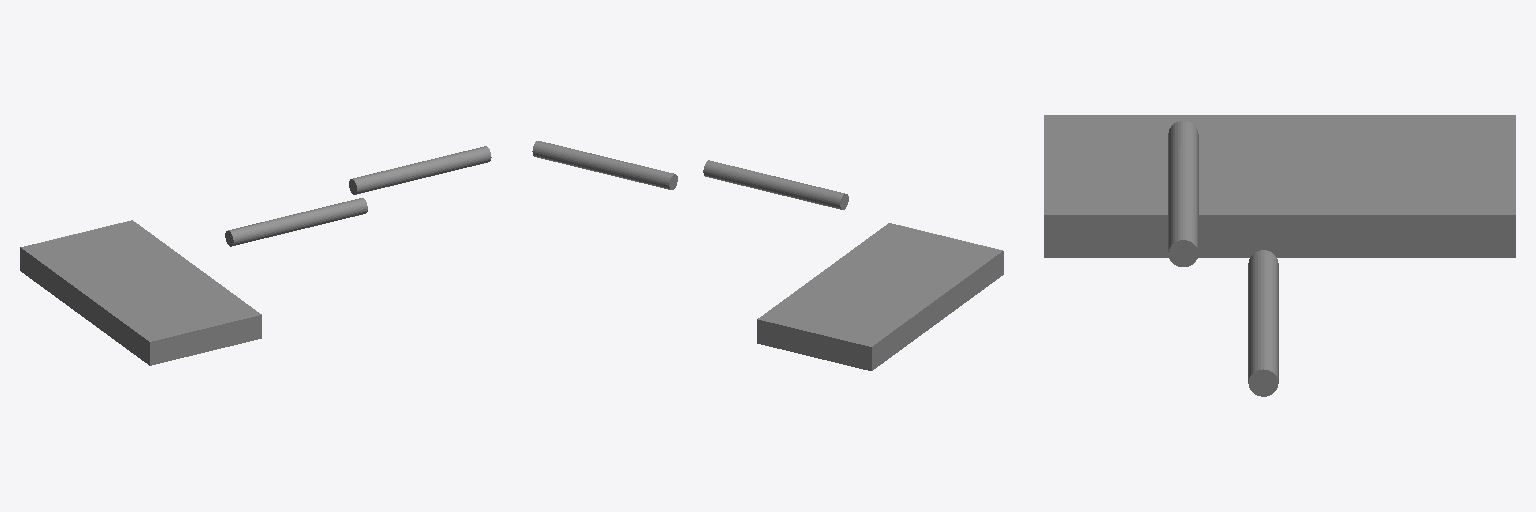
The robot description file, URDF, robot "A-2085-06":
<?xml version="1.0" ?>
<!-- =================================================================================== -->
<!-- |    This document was autogenerated by xacro from A-2085-06.xacro                | -->
<!-- |    EDITING THIS FILE BY HAND IS NOT RECOMMENDED                                 | -->
<!-- =================================================================================== -->
<robot name="A-2085-06" xmlns:xacro="http://www.ros.org/wiki/xacro">
  <!-- *************************** XACRO MACROS *************************** -->
  <!-- ************************* ROBOT DEFINITION ************************* -->
  <link name="world"/>
  <joint name="world_joint" type="fixed">
    <origin rpy="0 0 0" xyz="0 0 0"/>
    <parent link="world"/>
    <child link="base"/>
  </joint>
  <!-- just for visualization: base post -->
  <link name="base">
    <visual>
      <origin rpy="0 0 0" xyz="-.125 0 -.0254"/>
      <geometry>
        <box size="0.25 0.5 0.0508"/>
      </geometry>
      <material name="silver">
        <color rgba="0.6 0.6 0.6 1"/>
      </material>
    </visual>
    <collision>
      <origin rpy="0 0 0" xyz="-.125 0 -.0254"/>
      <geometry>
        <box size="0.25 0.5 0.0508"/>
      </geometry>
    </collision>
    <inertial>
      <origin rpy="0 0 0" xyz=".125 0 -.0254"/>
      <mass value="1.0"/>
      <inertia ixx="1.0" ixy="0.0" ixz="0.0" iyy="1.0" iyz="0.0" izz="1.0"/>
    </inertial>
  </link>
  <joint name="base_base" type="fixed">
    <parent link="base"/>
    <child link="HEBI/base/INPUT_INTERFACE"/>
    <origin rpy="0 0 0" xyz="0 0 0"/>
  </joint>
  <link name="HEBI/base/INPUT_INTERFACE">
    <visual>
      <origin rpy="0 0 0" xyz="0 0 0"/>
      <geometry>
        <mesh filename="package://hebi_description/meshes/X8.stl" scale="0.001 0.001 0.001"/>
      </geometry>
      <material name="red">
        <color rgba=".82 0.06 0.06 1"/>
      </material>
    </visual>
    <collision>
      <origin rpy="0 0 0" xyz="0 0 0"/>
      <geometry>
        <mesh filename="package://hebi_description/meshes/X8.stl" scale="0.001 0.001 0.001"/>
      </geometry>
    </collision>
    <inertial>
      <origin rpy="0 0 0" xyz="-0.0145 -0.0031 0.0242"/>
      <mass value="0.480"/>
      <inertia ixx="0.000246" ixy="0.0000444" ixz="0.0000266" iyy="0.000380" iyz="0.00000422" izz="0.000463"/>
    </inertial>
  </link>
  <joint name="HEBI/base/X8_9" type="continuous">
    <parent link="HEBI/base/INPUT_INTERFACE"/>
    <child link="shoulder_bracket/INPUT_INTERFACE"/>
    <origin rpy="0 0 0" xyz="0 0 0.045"/>
    <axis xyz="0 0 1"/>
    <limit effort="20" velocity="30"/>
    <dynamics damping="0.5" friction="0.5"/>
  </joint>
  <transmission name="HEBI/base/transmission">
    <type>transmission_interface/SimpleTransmission</type>
    <joint name="HEBI/base">
      <hardwareInterface>hardware_interface/EffortJointInterface</hardwareInterface>
    </joint>
    <actuator name="HEBI/base/actuator">
      <hardwareInterface>hardware_interface/EffortJointInterface</hardwareInterface>
      <mechanicalReduction>1</mechanicalReduction>
    </actuator>
  </transmission>
  <gazebo reference="HEBI/base/INPUT_INTERFACE">
    <selfCollide>true</selfCollide>
    <gravity>true</gravity>
    <sensor name="HEBI/base/imu_sensor" type="imu">
      <always_on>true</always_on>
      <update_rate>100</update_rate>
      <visualize>true</visualize>
      <plugin filename="libgazebo_imu_sensor.so" name="imu_plugin">
        <topicName>/hebi_gazebo_plugin/imu/HEBI/base</topicName>
        <bodyName>HEBI/base/imu_link</bodyName>
        <updateRateHZ>10.0</updateRateHZ>
        <gaussianNoise>0.0</gaussianNoise>
        <xyzOffset>0.025 0 0.003</xyzOffset>
        <rpyOffset>0 0 0</rpyOffset>
        <frameName>HEBI/base/imu_link</frameName>
      </plugin>
      <pose>0 0 0 0 0 0</pose>
    </sensor>
  </gazebo>
  <link name="shoulder_bracket/INPUT_INTERFACE">
    <visual>
      <origin rpy="1.57079632679 0 1.57079632679" xyz="0 0 0.005"/>
      <geometry>
        <mesh filename="package://hebi_description/meshes/PM-2149-01.stl" scale="0.001 0.001 0.001"/>
      </geometry>
      <material name="black">
        <color rgba="0 0 0 1"/>
      </material>
    </visual>
    <visual>
      <origin rpy="1.57079632679 0 0" xyz="0 -.03 .04"/>
      <geometry>
        <mesh filename="package://hebi_description/meshes/PM-2150-01R.stl" scale="0.001 0.001 0.001"/>
      </geometry>
      <material name="black">
        <color rgba="0 0 0 1"/>
      </material>
    </visual>
    <collision>
      <origin rpy="1.57079632679 0 1.57079632679" xyz="0 0 0.005"/>
      <geometry>
        <mesh filename="package://hebi_description/meshes/PM-2149-01.stl" scale="0.001 0.001 0.001"/>
      </geometry>
    </collision>
    <collision>
      <origin rpy="1.57079632679 0 0" xyz="0 -.03 .04"/>
      <geometry>
        <mesh filename="package://hebi_description/meshes/PM-2150-01R.stl" scale="0.001 0.001 0.001"/>
      </geometry>
    </collision>
    <!-- NOTE: inertia is just modelled as small sphere, and could be improved. -->
    <inertial>
      <origin rpy="0 0 0" xyz="0 -0.01875 .0275"/>
      <mass value="0.215"/>
      <inertia ixx="0.0003096" ixy="0.0" ixz="0.0" iyy="0.0003096" iyz="0.0" izz="0.0003096"/>
    </inertial>
  </link>
  <joint name="shoulder_bracket/OUTPUT_INTERFACE" type="fixed">
    <parent link="shoulder_bracket/INPUT_INTERFACE"/>
    <child link="HEBI/shoulder/INPUT_INTERFACE"/>
    <origin rpy="1.57079632679 0 0" xyz="0 -.0375 .055"/>
  </joint>
  <gazebo reference="shoulder_bracket/INPUT_INTERFACE">
    <selfCollide>true</selfCollide>
  </gazebo>
  <link name="HEBI/shoulder/INPUT_INTERFACE">
    <visual>
      <origin rpy="0 0 0" xyz="0 0 0"/>
      <geometry>
        <mesh filename="package://hebi_description/meshes/X8.stl" scale="0.001 0.001 0.001"/>
      </geometry>
      <material name="red">
        <color rgba=".82 0.06 0.06 1"/>
      </material>
    </visual>
    <collision>
      <origin rpy="0 0 0" xyz="0 0 0"/>
      <geometry>
        <mesh filename="package://hebi_description/meshes/X8.stl" scale="0.001 0.001 0.001"/>
      </geometry>
    </collision>
    <inertial>
      <origin rpy="0 0 0" xyz="-0.0145 -0.0031 0.0242"/>
      <mass value="0.500"/>
      <inertia ixx="0.000246" ixy="0.0000444" ixz="0.0000266" iyy="0.000380" iyz="0.00000422" izz="0.000463"/>
    </inertial>
  </link>
  <joint name="HEBI/shoulder/X8_16" type="continuous">
    <parent link="HEBI/shoulder/INPUT_INTERFACE"/>
    <child link="shoulder_elbow/INPUT_INTERFACE"/>
    <origin rpy="0 0 0" xyz="0 0 0.045"/>
    <axis xyz="0 0 1"/>
    <limit effort="38" velocity="15"/>
    <dynamics damping="0.5" friction="0.5"/>
  </joint>
  <transmission name="HEBI/shoulder/transmission">
    <type>transmission_interface/SimpleTransmission</type>
    <joint name="HEBI/shoulder">
      <hardwareInterface>hardware_interface/EffortJointInterface</hardwareInterface>
    </joint>
    <actuator name="HEBI/shoulder/actuator">
      <hardwareInterface>hardware_interface/EffortJointInterface</hardwareInterface>
      <mechanicalReduction>1</mechanicalReduction>
    </actuator>
  </transmission>
  <gazebo reference="HEBI/shoulder/INPUT_INTERFACE">
    <selfCollide>true</selfCollide>
    <gravity>true</gravity>
    <sensor name="HEBI/shoulder/imu_sensor" type="imu">
      <always_on>true</always_on>
      <update_rate>100</update_rate>
      <visualize>true</visualize>
      <plugin filename="libgazebo_imu_sensor.so" name="imu_plugin">
        <topicName>/hebi_gazebo_plugin/imu/HEBI/shoulder</topicName>
        <bodyName>HEBI/shoulder/imu_link</bodyName>
        <updateRateHZ>10.0</updateRateHZ>
        <gaussianNoise>0.0</gaussianNoise>
        <xyzOffset>0.025 0 0.003</xyzOffset>
        <rpyOffset>0 0 0</rpyOffset>
        <frameName>HEBI/shoulder/imu_link</frameName>
      </plugin>
      <pose>0 0 0 0 0 0</pose>
    </sensor>
  </gazebo>
  <link name="shoulder_elbow/INPUT_INTERFACE">
    <visual>
      <origin rpy="0 0 0" xyz="0 0 0"/>
      <geometry>
        <mesh filename="package://hebi_description/meshes/A-2038-02.stl"/>
      </geometry>
      <material name="black">
        <color rgba="0 0 0 1"/>
      </material>
    </visual>
    <visual>
      <origin rpy="0 1.57075 0" xyz="0.1625 0 0.02"/>
      <geometry>
        <cylinder length="0.2996" radius=".016"/>
      </geometry>
      <material name="silver">
        <color rgba="0.6 0.6 0.6 1"/>
      </material>
    </visual>
    <visual>
      <origin rpy="-3.14159265359 0 0" xyz="0.325 -2.44929359829e-18 0.0"/>
      <geometry>
        <mesh filename="package://hebi_description/meshes/A-2039-02.stl"/>
      </geometry>
      <material name="black">
        <color rgba="0 0 0 1"/>
      </material>
    </visual>
    <collision>
      <origin rpy="0 0 0" xyz="0 0 0"/>
      <geometry>
        <mesh filename="package://hebi_description/meshes/A-2038-02.stl"/>
      </geometry>
    </collision>
    <collision>
      <origin rpy="0 1.57075 0" xyz="0.1625 0 0.02"/>
      <geometry>
        <cylinder length="0.2996" radius=".016"/>
      </geometry>
    </collision>
    <collision>
      <origin rpy="-3.14159265359 0 0" xyz="0.325 -2.44929359829e-18 0.0"/>
      <geometry>
        <mesh filename="package://hebi_description/meshes/A-2039-02.stl"/>
      </geometry>
    </collision>
    <!-- Approximate inertia as thin rod about x axis -->
    <inertial>
      <origin rpy="0 0 0" xyz="0.1625 0 0.02"/>
      <mass value="0.402"/>
      <inertia ixx="0.0" ixy="0.0" ixz="0.0" iyy="0.0035384375" iyz="0.0" izz="0.0035384375"/>
    </inertial>
  </link>
  <joint name="shoulder_elbow/OUTPUT_JOINT" type="fixed">
    <parent link="shoulder_elbow/INPUT_INTERFACE"/>
    <child link="HEBI/elbow/INPUT_INTERFACE"/>
    <origin rpy="3.14159265359 0 0" xyz="0.325 -2.44929359829e-18 0.0"/>
  </joint>
  <gazebo reference="shoulder_elbow/INPUT_INTERFACE">
    <selfCollide>true</selfCollide>
  </gazebo>
  <link name="HEBI/elbow/INPUT_INTERFACE">
    <visual>
      <origin rpy="0 0 0" xyz="0 0 0"/>
      <geometry>
        <mesh filename="package://hebi_description/meshes/X8.stl" scale="0.001 0.001 0.001"/>
      </geometry>
      <material name="red">
        <color rgba=".82 0.06 0.06 1"/>
      </material>
    </visual>
    <collision>
      <origin rpy="0 0 0" xyz="0 0 0"/>
      <geometry>
        <mesh filename="package://hebi_description/meshes/X8.stl" scale="0.001 0.001 0.001"/>
      </geometry>
    </collision>
    <inertial>
      <origin rpy="0 0 0" xyz="-0.0145 -0.0031 0.0242"/>
      <mass value="0.480"/>
      <inertia ixx="0.000246" ixy="0.0000444" ixz="0.0000266" iyy="0.000380" iyz="0.00000422" izz="0.000463"/>
    </inertial>
  </link>
  <joint name="HEBI/elbow/X8_9" type="continuous">
    <parent link="HEBI/elbow/INPUT_INTERFACE"/>
    <child link="elbow_wrist1/INPUT_INTERFACE"/>
    <origin rpy="0 0 0" xyz="0 0 0.045"/>
    <axis xyz="0 0 1"/>
    <limit effort="20" velocity="30"/>
    <dynamics damping="0.5" friction="0.5"/>
  </joint>
  <transmission name="HEBI/elbow/transmission">
    <type>transmission_interface/SimpleTransmission</type>
    <joint name="HEBI/elbow">
      <hardwareInterface>hardware_interface/EffortJointInterface</hardwareInterface>
    </joint>
    <actuator name="HEBI/elbow/actuator">
      <hardwareInterface>hardware_interface/EffortJointInterface</hardwareInterface>
      <mechanicalReduction>1</mechanicalReduction>
    </actuator>
  </transmission>
  <gazebo reference="HEBI/elbow/INPUT_INTERFACE">
    <selfCollide>true</selfCollide>
    <gravity>true</gravity>
    <sensor name="HEBI/elbow/imu_sensor" type="imu">
      <always_on>true</always_on>
      <update_rate>100</update_rate>
      <visualize>true</visualize>
      <plugin filename="libgazebo_imu_sensor.so" name="imu_plugin">
        <topicName>/hebi_gazebo_plugin/imu/HEBI/elbow</topicName>
        <bodyName>HEBI/elbow/imu_link</bodyName>
        <updateRateHZ>10.0</updateRateHZ>
        <gaussianNoise>0.0</gaussianNoise>
        <xyzOffset>0.025 0 0.003</xyzOffset>
        <rpyOffset>0 0 0</rpyOffset>
        <frameName>HEBI/elbow/imu_link</frameName>
      </plugin>
      <pose>0 0 0 0 0 0</pose>
    </sensor>
  </gazebo>
  <link name="elbow_wrist1/INPUT_INTERFACE">
    <visual>
      <origin rpy="0 0 0" xyz="0 0 0"/>
      <geometry>
        <mesh filename="package://hebi_description/meshes/A-2038-02.stl"/>
      </geometry>
      <material name="black">
        <color rgba="0 0 0 1"/>
      </material>
    </visual>
    <visual>
      <origin rpy="0 1.57075 0" xyz="0.1625 0 0.02"/>
      <geometry>
        <cylinder length="0.2996" radius=".016"/>
      </geometry>
      <material name="silver">
        <color rgba="0.6 0.6 0.6 1"/>
      </material>
    </visual>
    <visual>
      <origin rpy="-3.14159265359 0 0" xyz="0.325 -2.44929359829e-18 0.0"/>
      <geometry>
        <mesh filename="package://hebi_description/meshes/A-2039-02.stl"/>
      </geometry>
      <material name="black">
        <color rgba="0 0 0 1"/>
      </material>
    </visual>
    <collision>
      <origin rpy="0 0 0" xyz="0 0 0"/>
      <geometry>
        <mesh filename="package://hebi_description/meshes/A-2038-02.stl"/>
      </geometry>
    </collision>
    <collision>
      <origin rpy="0 1.57075 0" xyz="0.1625 0 0.02"/>
      <geometry>
        <cylinder length="0.2996" radius=".016"/>
      </geometry>
    </collision>
    <collision>
      <origin rpy="-3.14159265359 0 0" xyz="0.325 -2.44929359829e-18 0.0"/>
      <geometry>
        <mesh filename="package://hebi_description/meshes/A-2039-02.stl"/>
      </geometry>
    </collision>
    <!-- Approximate inertia as thin rod about x axis -->
    <inertial>
      <origin rpy="0 0 0" xyz="0.1625 0 0.02"/>
      <mass value="0.402"/>
      <inertia ixx="0.0" ixy="0.0" ixz="0.0" iyy="0.0035384375" iyz="0.0" izz="0.0035384375"/>
    </inertial>
  </link>
  <joint name="elbow_wrist1/OUTPUT_JOINT" type="fixed">
    <parent link="elbow_wrist1/INPUT_INTERFACE"/>
    <child link="HEBI/wrist1/INPUT_INTERFACE"/>
    <origin rpy="3.14159265359 0 0" xyz="0.325 -2.44929359829e-18 0.0"/>
  </joint>
  <gazebo reference="elbow_wrist1/INPUT_INTERFACE">
    <selfCollide>true</selfCollide>
  </gazebo>
  <link name="HEBI/wrist1/INPUT_INTERFACE">
    <visual>
      <origin rpy="0 0 0" xyz="0 0 0"/>
      <geometry>
        <mesh filename="package://hebi_description/meshes/X5.stl" scale="0.001 0.001 0.001"/>
      </geometry>
      <material name="red">
        <color rgba=".82 0.06 0.06 1"/>
      </material>
    </visual>
    <collision>
      <origin rpy="0 0 0" xyz="0 0 0"/>
      <geometry>
        <mesh filename="package://hebi_description/meshes/X5.stl" scale="0.001 0.001 0.001"/>
      </geometry>
    </collision>
    <inertial>
      <origin rpy="0 0 0" xyz="-0.0142 -0.0031 0.0165"/>
      <mass value="0.315"/>
      <inertia ixx="0.00015" ixy="0.0000341" ixz="0.0000118" iyy="0.000255" iyz="0.00000229" izz="0.000350"/>
    </inertial>
  </link>
  <joint name="HEBI/wrist1/X5_1" type="continuous">
    <parent link="HEBI/wrist1/INPUT_INTERFACE"/>
    <child link="wrist1_wrist2/INPUT_INTERFACE"/>
    <origin rpy="0 0 0" xyz="0 0 0.031"/>
    <axis xyz="0 0 1"/>
    <limit effort="2.5" velocity="90"/>
    <dynamics damping="0.1" friction="0.1"/>
  </joint>
  <gazebo reference="HEBI/wrist1/INPUT_INTERFACE">
    <selfCollide>true</selfCollide>
    <gravity>true</gravity>
    <sensor name="HEBI/wrist1/imu_sensor" type="imu">
      <always_on>true</always_on>
      <update_rate>100</update_rate>
      <visualize>true</visualize>
      <plugin filename="libgazebo_imu_sensor.so" name="imu_plugin">
        <topicName>/hebi_gazebo_plugin/imu/HEBI/wrist1</topicName>
        <bodyName>HEBI/wrist1/imu_link</bodyName>
        <updateRateHZ>10.0</updateRateHZ>
        <gaussianNoise>0.0</gaussianNoise>
        <xyzOffset>0.025 0 0.003</xyzOffset>
        <rpyOffset>0 0 0</rpyOffset>
        <frameName>HEBI/wrist1/imu_link</frameName>
      </plugin>
      <pose>0 0 0 0 0 0</pose>
    </sensor>
  </gazebo>
  <link name="wrist1_wrist2/INPUT_INTERFACE">
    <visual>
      <origin rpy="1.57079632679 0 -1.57079632679" xyz="0 0 0"/>
      <geometry>
        <mesh filename="package://hebi_description/meshes/PM-2132-01R.stl" scale="0.001 0.001 0.001"/>
      </geometry>
      <material name="beige">
        <color rgba="0.96 0.945 0.871 1"/>
      </material>
    </visual>
    <collision>
      <origin rpy="1.57079632679 0 -1.57079632679" xyz="0 0 0"/>
      <geometry>
        <mesh filename="package://hebi_description/meshes/PM-2132-01R.stl" scale="0.001 0.001 0.001"/>
      </geometry>
    </collision>
    <!-- NOTE: inertia is just modelled as small sphere, and could be improved. -->
    <inertial>
      <origin rpy="0 0 0" xyz="0 -.0215 .02"/>
      <mass value="0.1"/>
      <inertia ixx="0.000144" ixy="0.0" ixz="0.0" iyy="0.000144" iyz="0.0" izz="0.000144"/>
    </inertial>
  </link>
  <joint name="wrist1_wrist2/OUTPUT_INTERFACE" type="fixed">
    <parent link="wrist1_wrist2/INPUT_INTERFACE"/>
    <child link="HEBI/wrist2/INPUT_INTERFACE"/>
    <origin rpy="1.57079632679 0 0" xyz="0 -.043 .04"/>
  </joint>
  <gazebo reference="wrist1_wrist2/INPUT_INTERFACE">
    <selfCollide>true</selfCollide>
  </gazebo>
  <link name="HEBI/wrist2/INPUT_INTERFACE">
    <visual>
      <origin rpy="0 0 0" xyz="0 0 0"/>
      <geometry>
        <mesh filename="package://hebi_description/meshes/X5.stl" scale="0.001 0.001 0.001"/>
      </geometry>
      <material name="red">
        <color rgba=".82 0.06 0.06 1"/>
      </material>
    </visual>
    <collision>
      <origin rpy="0 0 0" xyz="0 0 0"/>
      <geometry>
        <mesh filename="package://hebi_description/meshes/X5.stl" scale="0.001 0.001 0.001"/>
      </geometry>
    </collision>
    <inertial>
      <origin rpy="0 0 0" xyz="-0.0142 -0.0031 0.0165"/>
      <mass value="0.315"/>
      <inertia ixx="0.00015" ixy="0.0000341" ixz="0.0000118" iyy="0.000255" iyz="0.00000229" izz="0.000350"/>
    </inertial>
  </link>
  <joint name="HEBI/wrist2/X5_1" type="continuous">
    <parent link="HEBI/wrist2/INPUT_INTERFACE"/>
    <child link="wrist2_wrist3/INPUT_INTERFACE"/>
    <origin rpy="0 0 0" xyz="0 0 0.031"/>
    <axis xyz="0 0 1"/>
    <limit effort="2.5" velocity="90"/>
    <dynamics damping="0.1" friction="0.1"/>
  </joint>
  <gazebo reference="HEBI/wrist2/INPUT_INTERFACE">
    <selfCollide>true</selfCollide>
    <gravity>true</gravity>
    <sensor name="HEBI/wrist2/imu_sensor" type="imu">
      <always_on>true</always_on>
      <update_rate>100</update_rate>
      <visualize>true</visualize>
      <plugin filename="libgazebo_imu_sensor.so" name="imu_plugin">
        <topicName>/hebi_gazebo_plugin/imu/HEBI/wrist2</topicName>
        <bodyName>HEBI/wrist2/imu_link</bodyName>
        <updateRateHZ>10.0</updateRateHZ>
        <gaussianNoise>0.0</gaussianNoise>
        <xyzOffset>0.025 0 0.003</xyzOffset>
        <rpyOffset>0 0 0</rpyOffset>
        <frameName>HEBI/wrist2/imu_link</frameName>
      </plugin>
      <pose>0 0 0 0 0 0</pose>
    </sensor>
  </gazebo>
  <link name="wrist2_wrist3/INPUT_INTERFACE">
    <visual>
      <origin rpy="1.57079632679 0 -1.57079632679" xyz="0 0 0"/>
      <geometry>
        <mesh filename="package://hebi_description/meshes/PM-2132-01R.stl" scale="0.001 0.001 0.001"/>
      </geometry>
      <material name="beige">
        <color rgba="0.96 0.945 0.871 1"/>
      </material>
    </visual>
    <collision>
      <origin rpy="1.57079632679 0 -1.57079632679" xyz="0 0 0"/>
      <geometry>
        <mesh filename="package://hebi_description/meshes/PM-2132-01R.stl" scale="0.001 0.001 0.001"/>
      </geometry>
    </collision>
    <!-- NOTE: inertia is just modelled as small sphere, and could be improved. -->
    <inertial>
      <origin rpy="0 0 0" xyz="0 -.0215 .02"/>
      <mass value="0.1"/>
      <inertia ixx="0.000144" ixy="0.0" ixz="0.0" iyy="0.000144" iyz="0.0" izz="0.000144"/>
    </inertial>
  </link>
  <joint name="wrist2_wrist3/OUTPUT_INTERFACE" type="fixed">
    <parent link="wrist2_wrist3/INPUT_INTERFACE"/>
    <child link="HEBI/wrist3/INPUT_INTERFACE"/>
    <origin rpy="1.57079632679 0 0" xyz="0 -.043 .04"/>
  </joint>
  <gazebo reference="wrist2_wrist3/INPUT_INTERFACE">
    <selfCollide>true</selfCollide>
  </gazebo>
  <link name="HEBI/wrist3/INPUT_INTERFACE">
    <visual>
      <origin rpy="0 0 0" xyz="0 0 0"/>
      <geometry>
        <mesh filename="package://hebi_description/meshes/X5.stl" scale="0.001 0.001 0.001"/>
      </geometry>
      <material name="red">
        <color rgba=".82 0.06 0.06 1"/>
      </material>
    </visual>
    <collision>
      <origin rpy="0 0 0" xyz="0 0 0"/>
      <geometry>
        <mesh filename="package://hebi_description/meshes/X5.stl" scale="0.001 0.001 0.001"/>
      </geometry>
    </collision>
    <inertial>
      <origin rpy="0 0 0" xyz="-0.0142 -0.0031 0.0165"/>
      <mass value="0.315"/>
      <inertia ixx="0.00015" ixy="0.0000341" ixz="0.0000118" iyy="0.000255" iyz="0.00000229" izz="0.000350"/>
    </inertial>
  </link>
  <joint name="HEBI/wrist3/X5_1" type="continuous">
    <parent link="HEBI/wrist3/INPUT_INTERFACE"/>
    <child link="end_effector/INPUT_INTERFACE"/>
    <origin rpy="0 0 0" xyz="0 0 0.031"/>
    <axis xyz="0 0 1"/>
    <limit effort="2.5" velocity="90"/>
    <dynamics damping="0.1" friction="0.1"/>
  </joint>
  <gazebo reference="HEBI/wrist3/INPUT_INTERFACE">
    <selfCollide>true</selfCollide>
    <gravity>true</gravity>
    <sensor name="HEBI/wrist3/imu_sensor" type="imu">
      <always_on>true</always_on>
      <update_rate>100</update_rate>
      <visualize>true</visualize>
      <plugin filename="libgazebo_imu_sensor.so" name="imu_plugin">
        <topicName>/hebi_gazebo_plugin/imu/HEBI/wrist3</topicName>
        <bodyName>HEBI/wrist3/imu_link</bodyName>
        <updateRateHZ>10.0</updateRateHZ>
        <gaussianNoise>0.0</gaussianNoise>
        <xyzOffset>0.025 0 0.003</xyzOffset>
        <rpyOffset>0 0 0</rpyOffset>
        <frameName>HEBI/wrist3/imu_link</frameName>
      </plugin>
      <pose>0 0 0 0 0 0</pose>
    </sensor>
  </gazebo>
  <!-- end link -->
  <link name="end_effector/INPUT_INTERFACE">
  </link>
  <gazebo reference="base">
    <selfCollide>true</selfCollide>
  </gazebo>
  <gazebo>
    <plugin filename="libhebi_gazebo_plugin.so" name="hebi_gazebo_plugin">
    </plugin>
  </gazebo>
</robot>

--- Render facts (derived) ---
3 views of the same robot in one strip: view 1: azimuth 30°, elevation 25°; view 2: azimuth 150°, elevation 25°; view 3: azimuth 270°, elevation 25° (orthographic).
Robot: A-2085-06 — 14 links, 13 joints (6 continuous, 7 fixed); root link world; default pose: every joint at zero.
Visible links, largest first — view 1: base, shoulder_elbow/INPUT_INTERFACE, elbow_wrist1/INPUT_INTERFACE; view 2: base, shoulder_elbow/INPUT_INTERFACE, elbow_wrist1/INPUT_INTERFACE; view 3: base, shoulder_elbow/INPUT_INTERFACE, elbow_wrist1/INPUT_INTERFACE.
Boxes of the visible links, x1=… form: base: x1=20, y1=220, x2=261, y2=365; shoulder_elbow/INPUT_INTERFACE: x1=225, y1=198, x2=367, y2=246; elbow_wrist1/INPUT_INTERFACE: x1=349, y1=146, x2=491, y2=194; base: x1=757, y1=223, x2=1003, y2=370; shoulder_elbow/INPUT_INTERFACE: x1=703, y1=160, x2=848, y2=209; elbow_wrist1/INPUT_INTERFACE: x1=532, y1=141, x2=677, y2=189; base: x1=1044, y1=115, x2=1515, y2=257; shoulder_elbow/INPUT_INTERFACE: x1=1168, y1=121, x2=1198, y2=266; elbow_wrist1/INPUT_INTERFACE: x1=1248, y1=250, x2=1278, y2=396.
Bounding box of the posed robot: 0.8873 × 0.5 × 0.1668 m (x, y, z).
Meshes: 7 distinct files referenced, 0 mesh visuals loaded (none loaded); not drawn: 14 (reference not matched to a file when rendering).